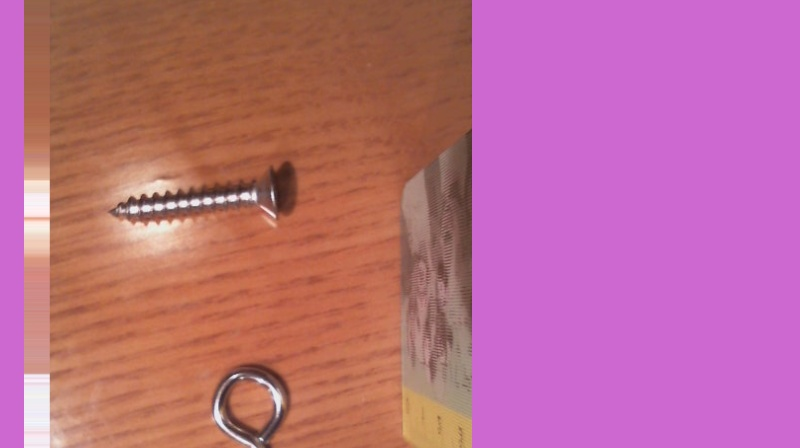O001: (208, 360, 296, 447)
S001: (109, 159, 293, 231)
